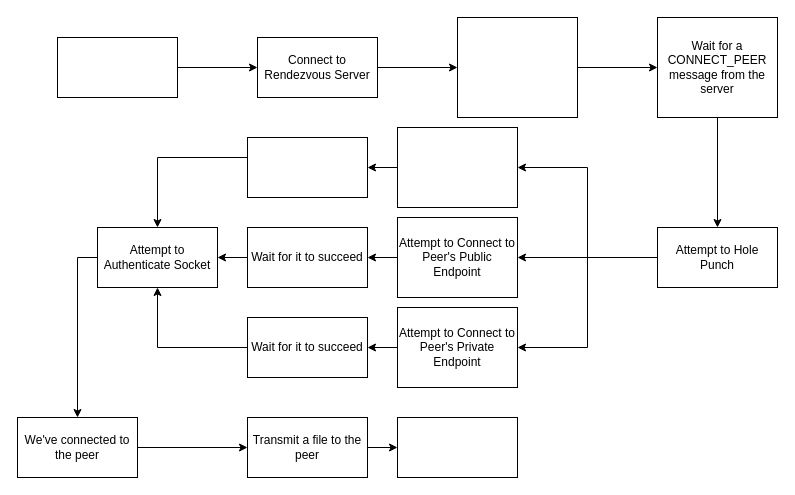
Some shapes in this 795 by 495 pixel diagram are drawn without their labels. The shapes that lost their labels are listed below. From the top down, each one's centre as x and y in pixels, then its label:
At (117,67): "Start".
At (517,67): "Send READY_FOR_P2P AND MY_DATA messages".
At (307,167): "Wait for there to be a Socket available".
At (457,167): "Starts Listening for Other Peer's Connection".
At (457,447): "Receive file chunks from peer".
